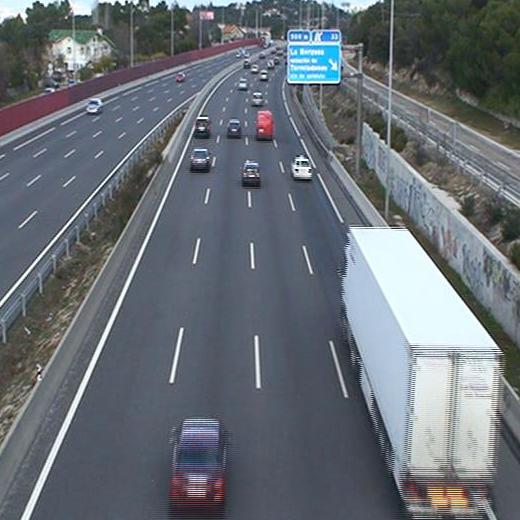car: (170, 418, 225, 504), (241, 161, 260, 188), (291, 156, 311, 181), (192, 148, 210, 168), (195, 116, 208, 137), (226, 120, 242, 137), (251, 92, 263, 106), (259, 69, 268, 82), (238, 79, 248, 90)
truck: (340, 227, 500, 520)
van: (256, 110, 273, 142)
